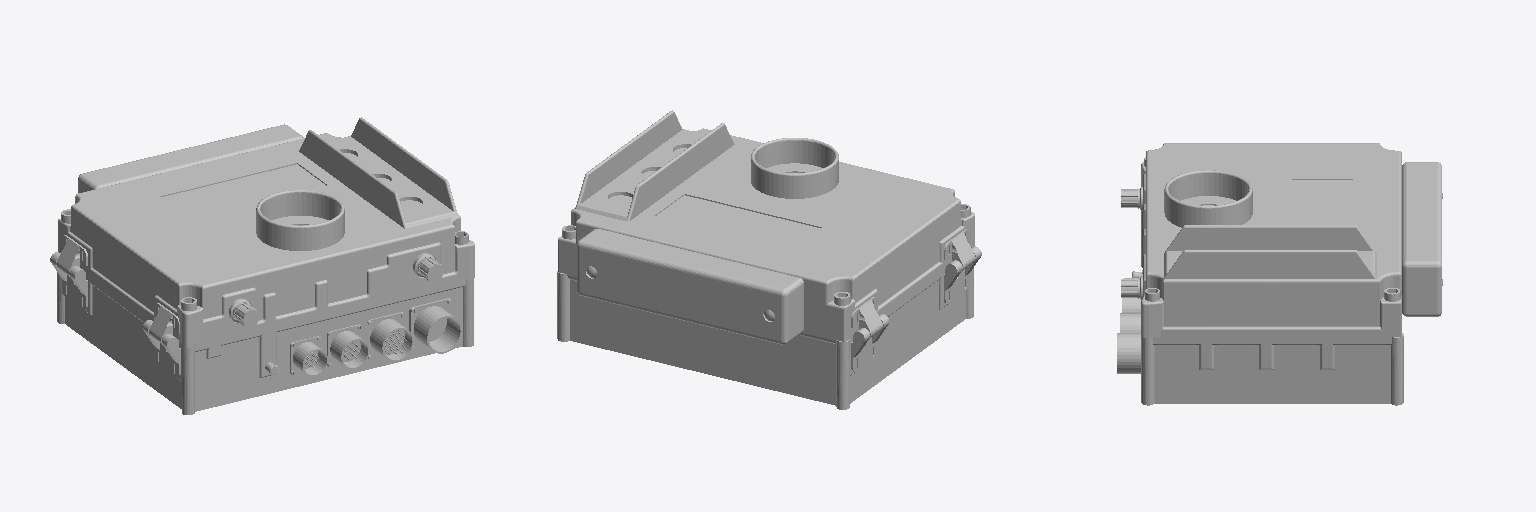
The model's file is Korpus.obj.
3 views of the same model, side by side, from view 1: azimuth 30°, elevation 25°; view 2: azimuth 150°, elevation 25°; view 3: azimuth 270°, elevation 25° (orthographic).
Parts seen in each view (by area): view 1: MeshBody1; view 2: MeshBody1; view 3: MeshBody1.
Part boxes in pixels (x1,y1,x2,y2): MeshBody1: (50, 117, 474, 414); MeshBody1: (557, 110, 981, 409); MeshBody1: (1117, 143, 1442, 405).
Bounding box in the file's own units: 257 × 123 × 240.